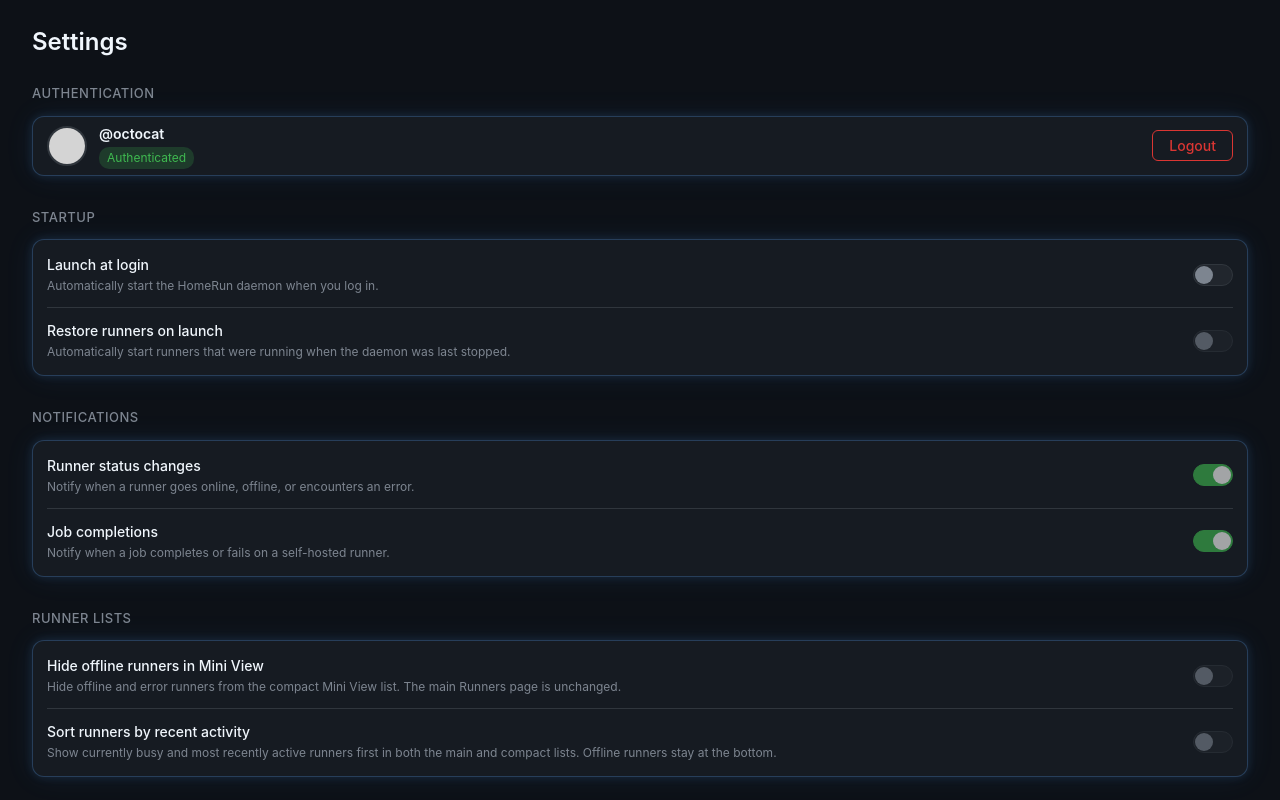
Test case: Settings › keeps preference controls disabled until saved preferences are loaded
Click the switch named "Restore runners on launch". click: (1213, 340)
box: [1193,330,1233,352]
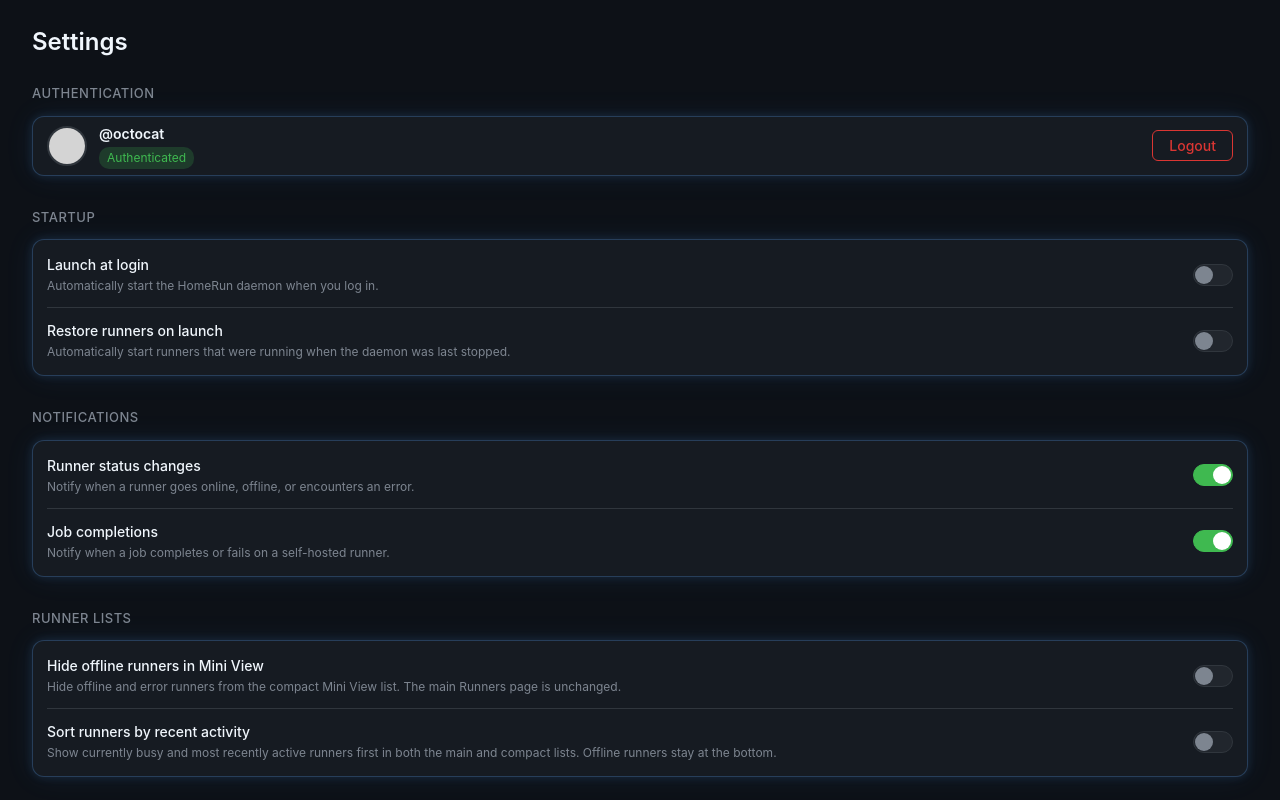
Check: the switch named "Restore runners on launch" is enabled, box [1193,330,1233,352]
